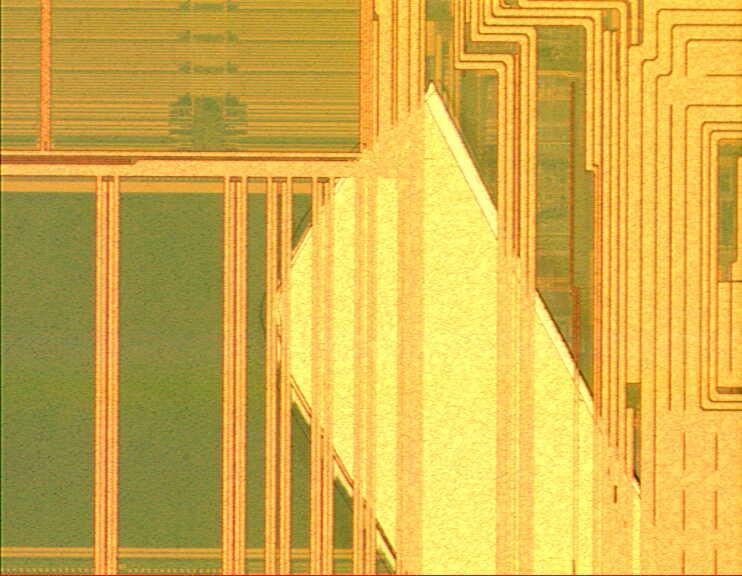BLOCK ETCH: (252, 72, 701, 576)
